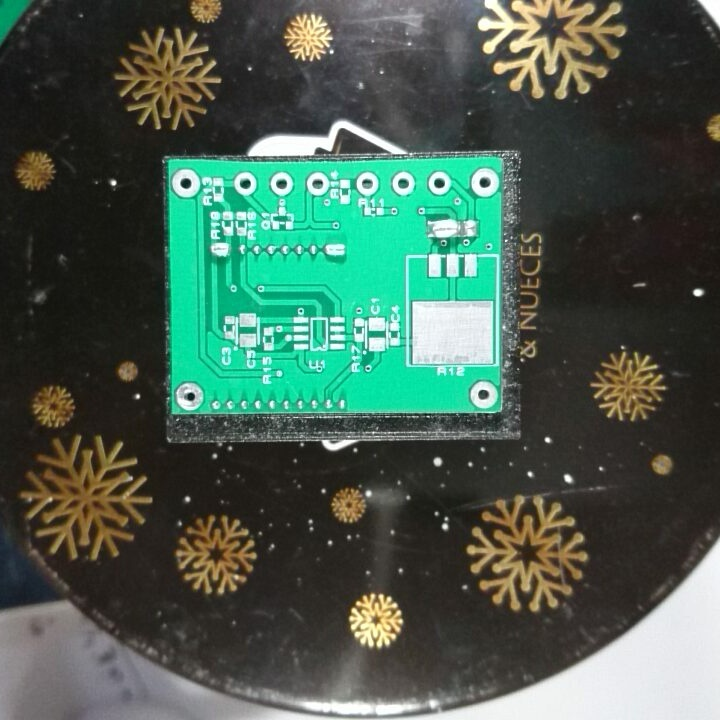F: (466, 166, 501, 198), (170, 166, 202, 201), (468, 378, 501, 411), (174, 381, 206, 413), (424, 169, 454, 197), (352, 169, 380, 198), (231, 171, 261, 198), (389, 169, 417, 197), (304, 169, 331, 198), (268, 169, 295, 198)
P: (424, 218, 461, 240), (206, 240, 234, 261), (321, 240, 348, 261)
